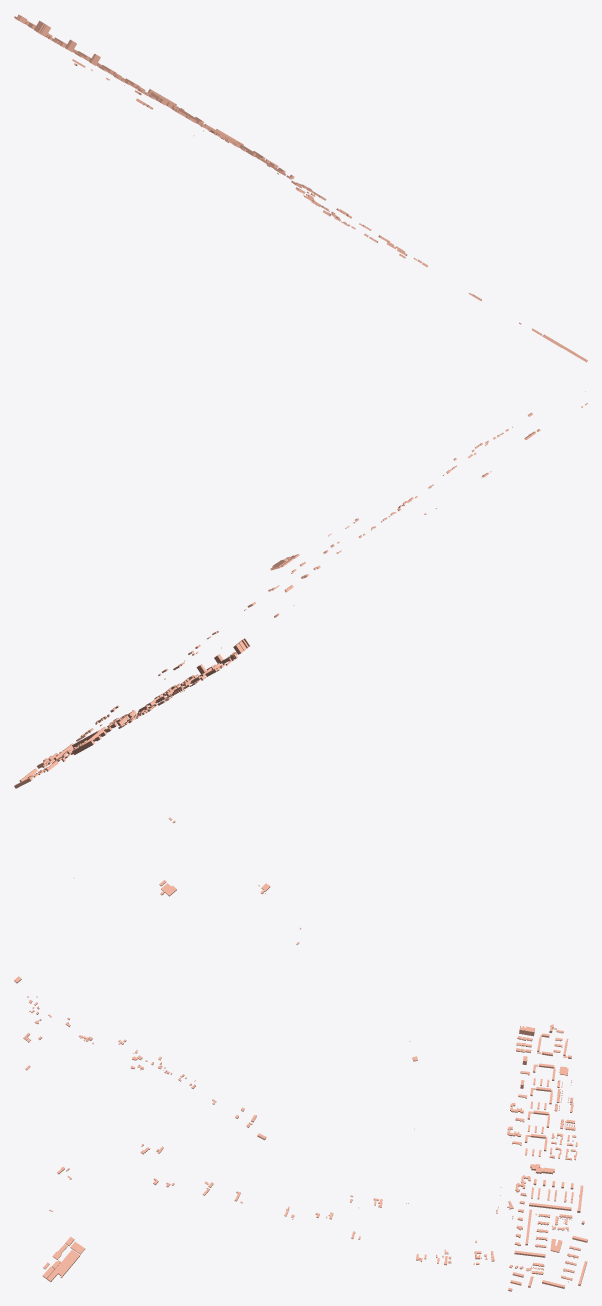
3 views of the same model, one above another, from view 1: azimuth 30°, elevation 25°; view 2: azimuth 150°, elevation 25°; view 3: azimuth 270°, elevation 25° (orthographic). The views are drawn at different scales.
Bounding box in the file's own units: 1834 × 1475 × 2521.
